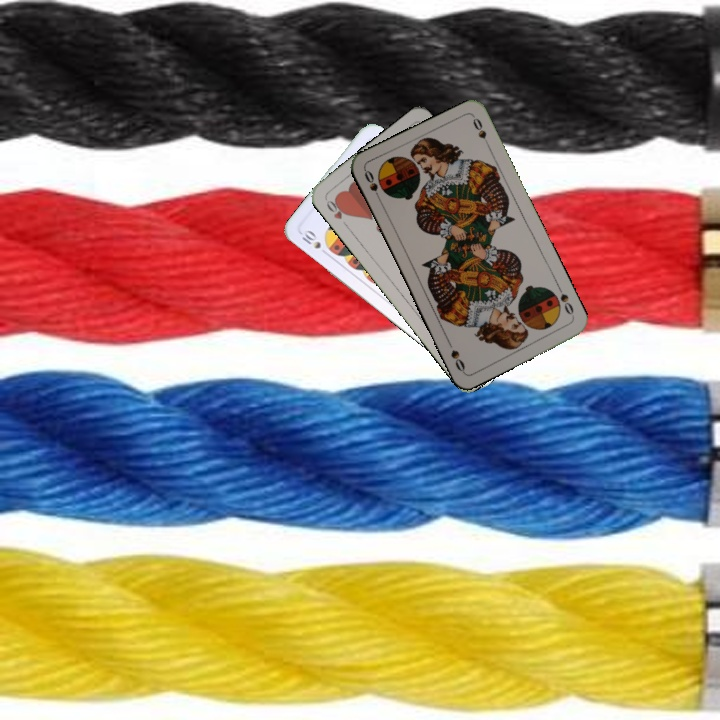HO: (322, 195, 351, 230)
S10: (297, 226, 331, 258)
SO: (360, 166, 384, 205), (554, 282, 577, 320)
